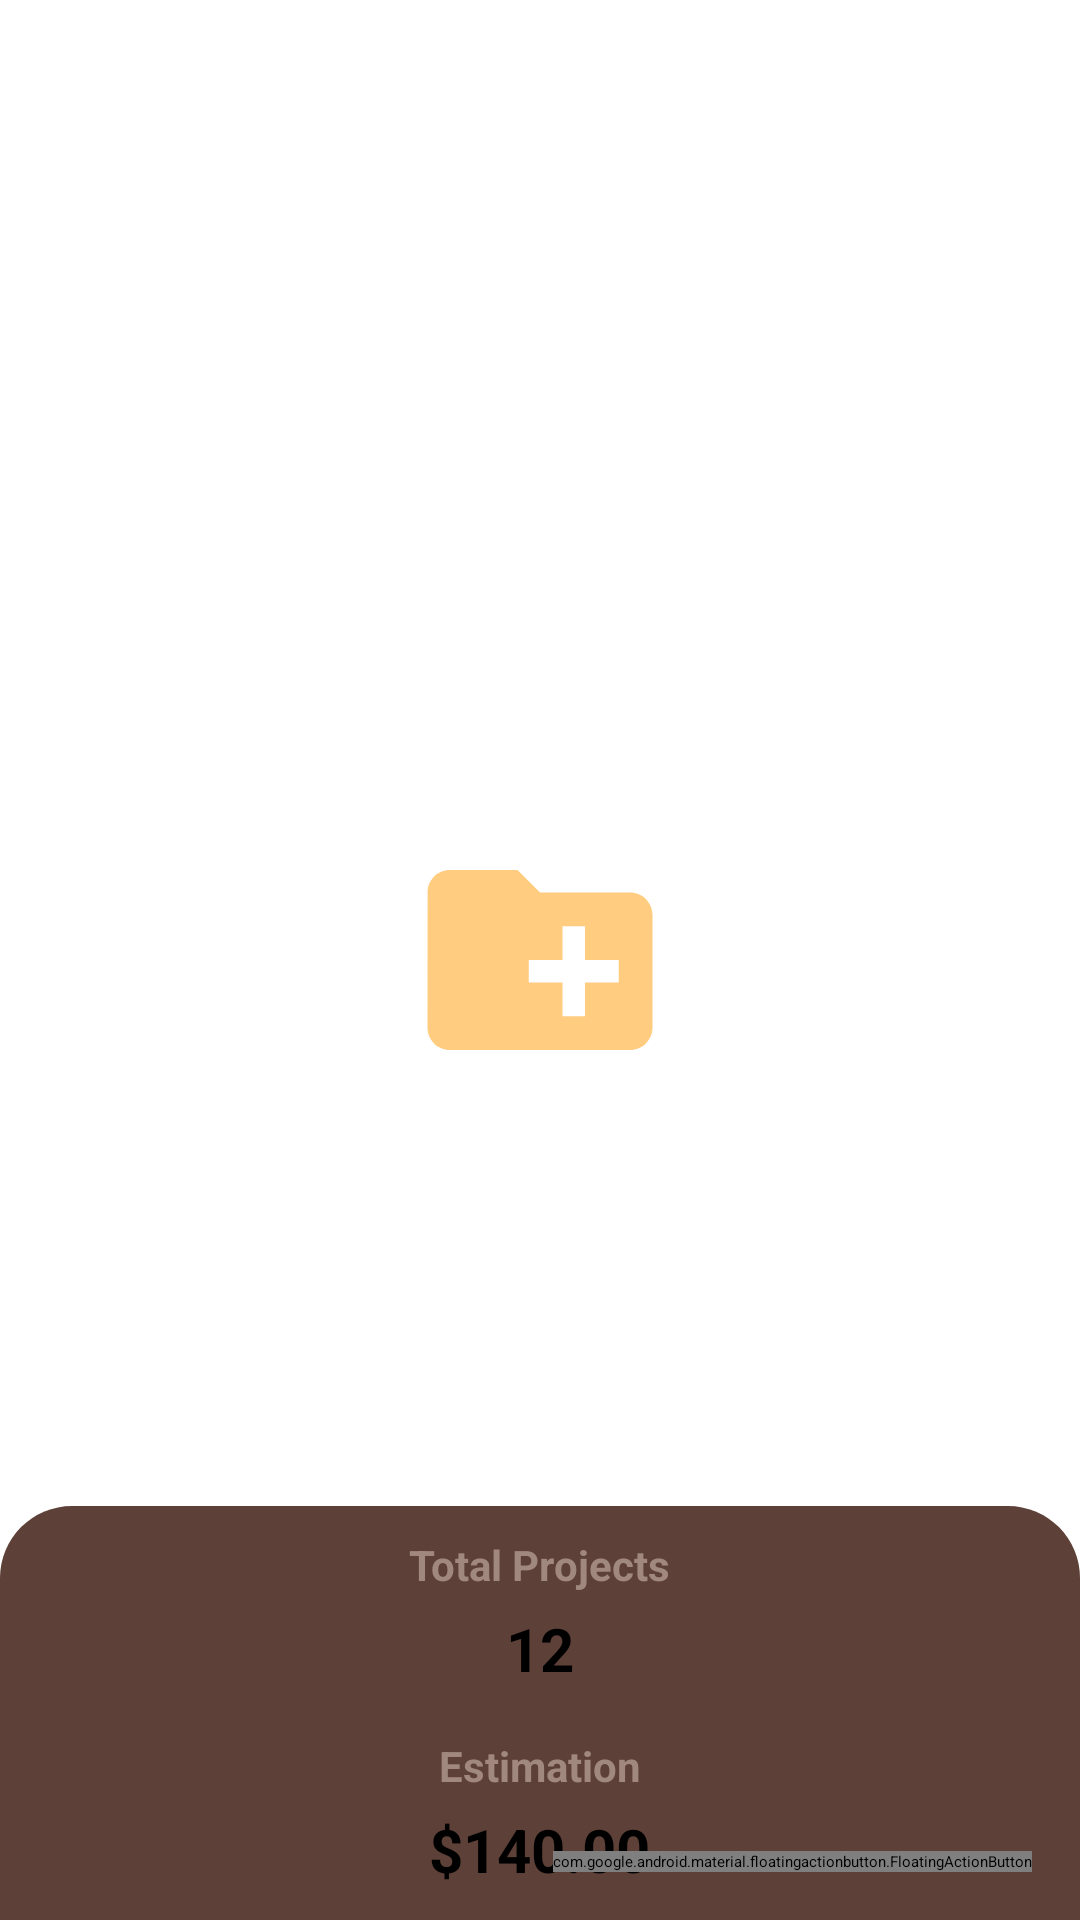

Named icons in this screenshot (1080 × 1920) and their bounding boxes, (x1, y1, x2, y2):
create folder: (427, 870, 653, 1050)
